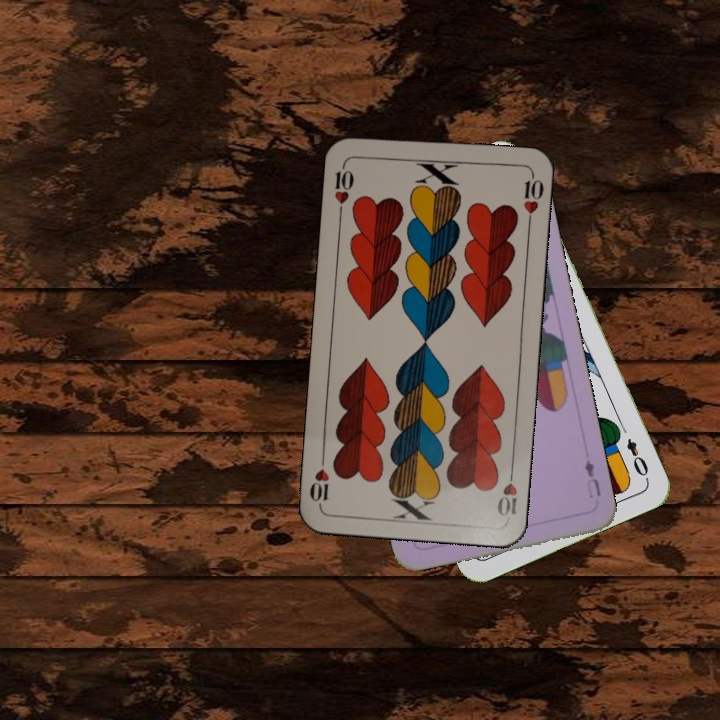EO: (622, 434, 652, 483)
EU: (580, 455, 603, 501)
H10: (330, 159, 357, 218), (493, 462, 520, 519)
